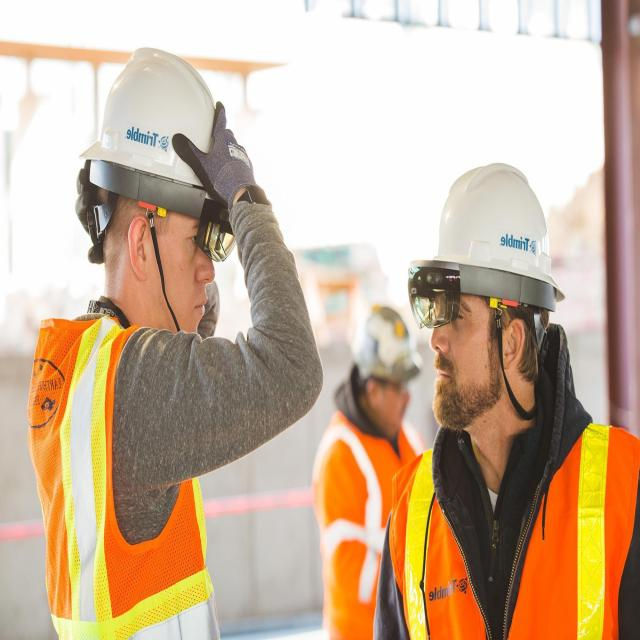helmet: (403, 158, 575, 321), (73, 31, 245, 190)
jacket: (360, 394, 640, 640), (21, 304, 213, 630)
